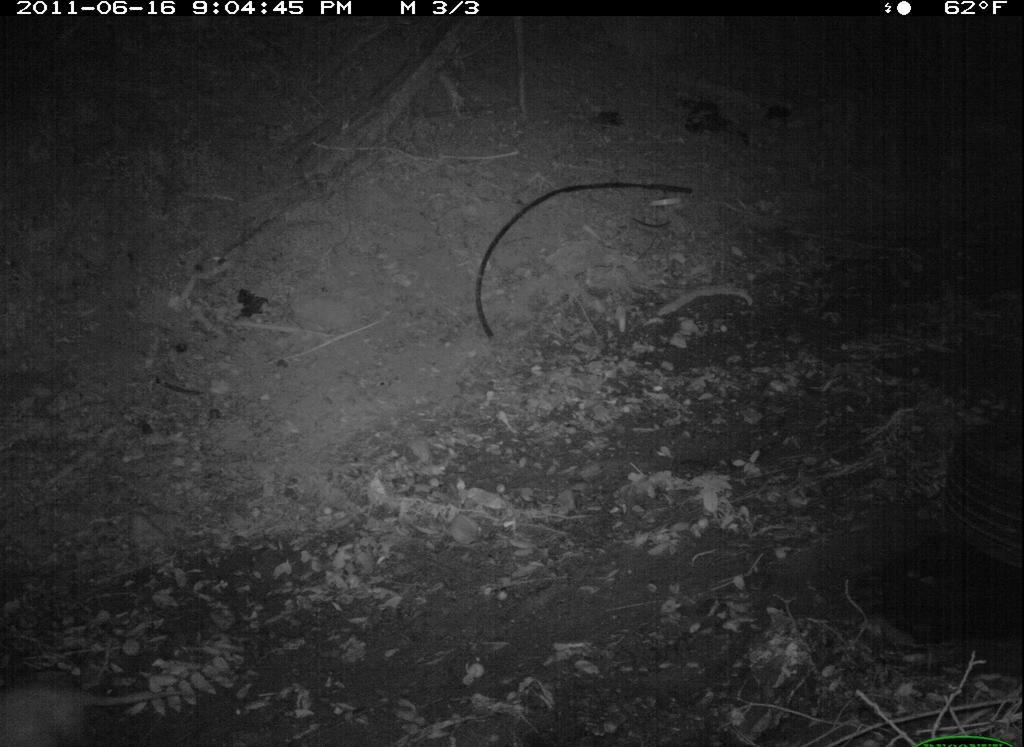opossum: (1, 670, 210, 746)
